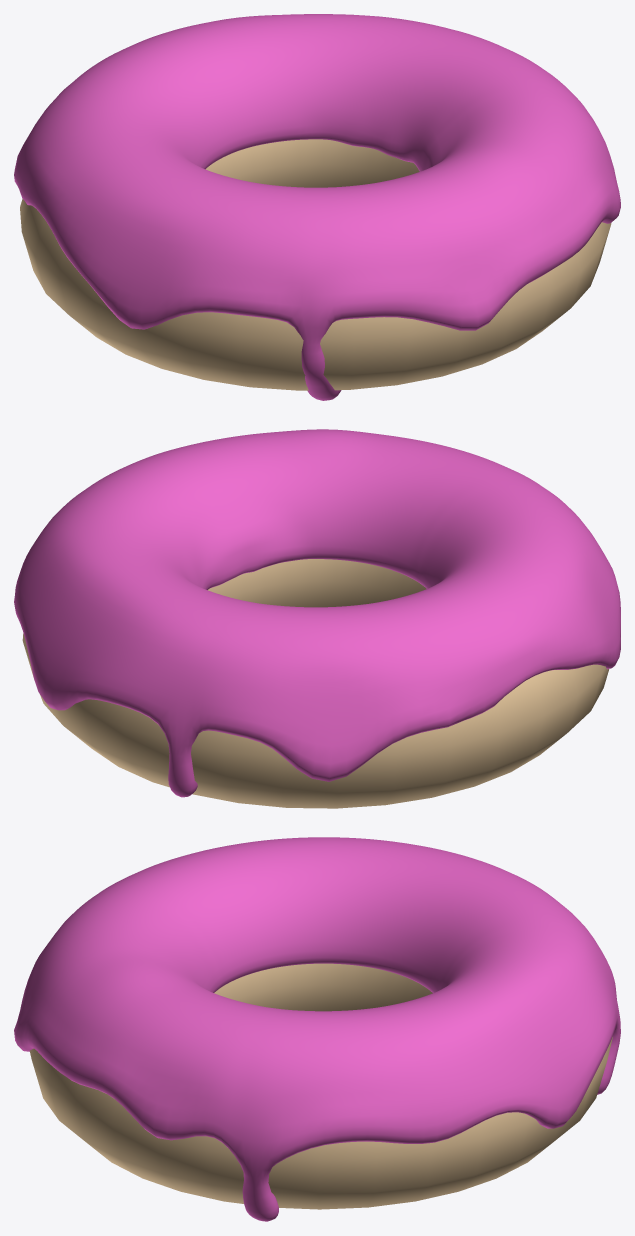
Rendered from donut.glb.
The picture shows the model from 3 angles, top to bottom: view 1: azimuth 30°, elevation 25°; view 2: azimuth 150°, elevation 25°; view 3: azimuth 270°, elevation 25°; orthographic projection.
Visible parts, largest first — view 1: Torus.001, Torus; view 2: Torus.001, Torus; view 3: Torus.001, Torus.
Boxes of the visible parts, x1,y1,x2,y2 form: Torus.001: (14, 14, 620, 400); Torus: (20, 139, 611, 390); Torus.001: (14, 429, 620, 797); Torus: (22, 559, 609, 808); Torus.001: (14, 837, 620, 1221); Torus: (29, 963, 612, 1209).
Bounding box in the file's own units: 1.74 × 0.618 × 1.76.
